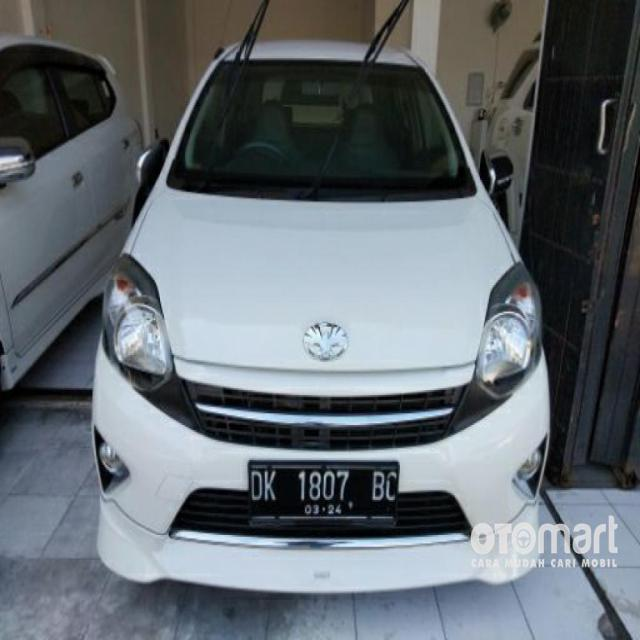clone-license-plate: (250, 464, 399, 531)
